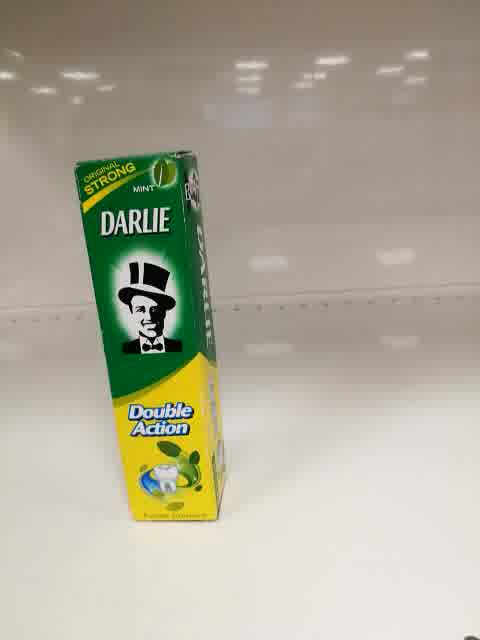toothpaste: (74, 151, 227, 523)
